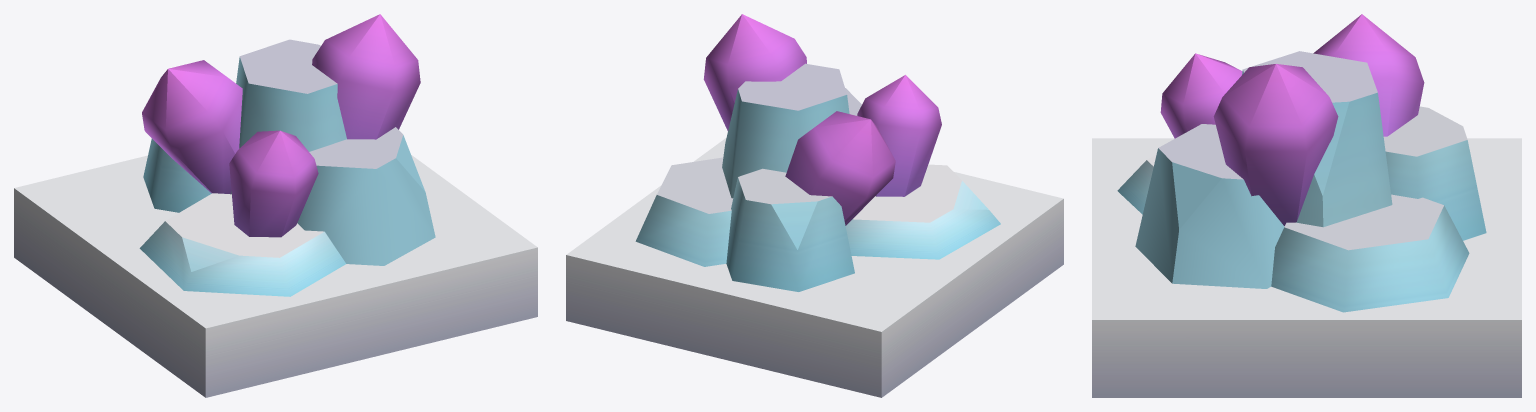
The model's file is kenney-tower-defense-snow-tile-crystal.glb.
The picture shows the model from 3 angles, left to right: view 1: azimuth 30°, elevation 25°; view 2: azimuth 150°, elevation 25°; view 3: azimuth 270°, elevation 25°; orthographic projection. The views are drawn at different scales.
Visible parts, largest first — view 1: snow-tile-crystal; view 2: snow-tile-crystal; view 3: snow-tile-crystal.
Boxes of the visible parts, <box> form: snow-tile-crystal: <box>14,14,537,397</box>; snow-tile-crystal: <box>566,14,1063,397</box>; snow-tile-crystal: <box>1092,14,1521,397</box>.
Bounding box in the file's own units: 1 × 0.7518 × 1.
1 material, 1 textured.
